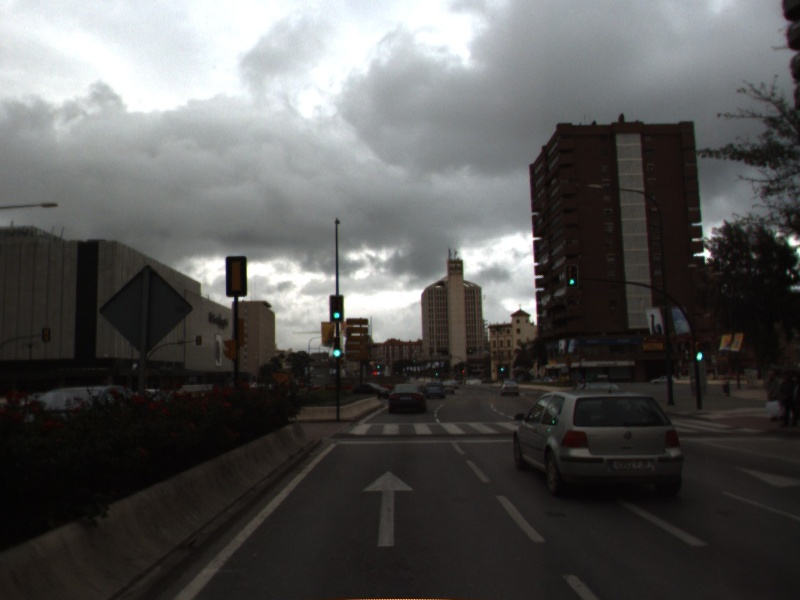STRAIGHT: (360, 467, 416, 549)
